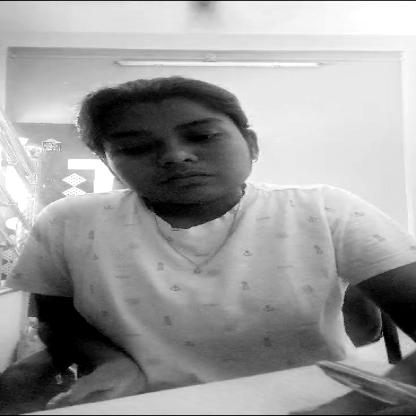Normal: (100, 90, 272, 207)
